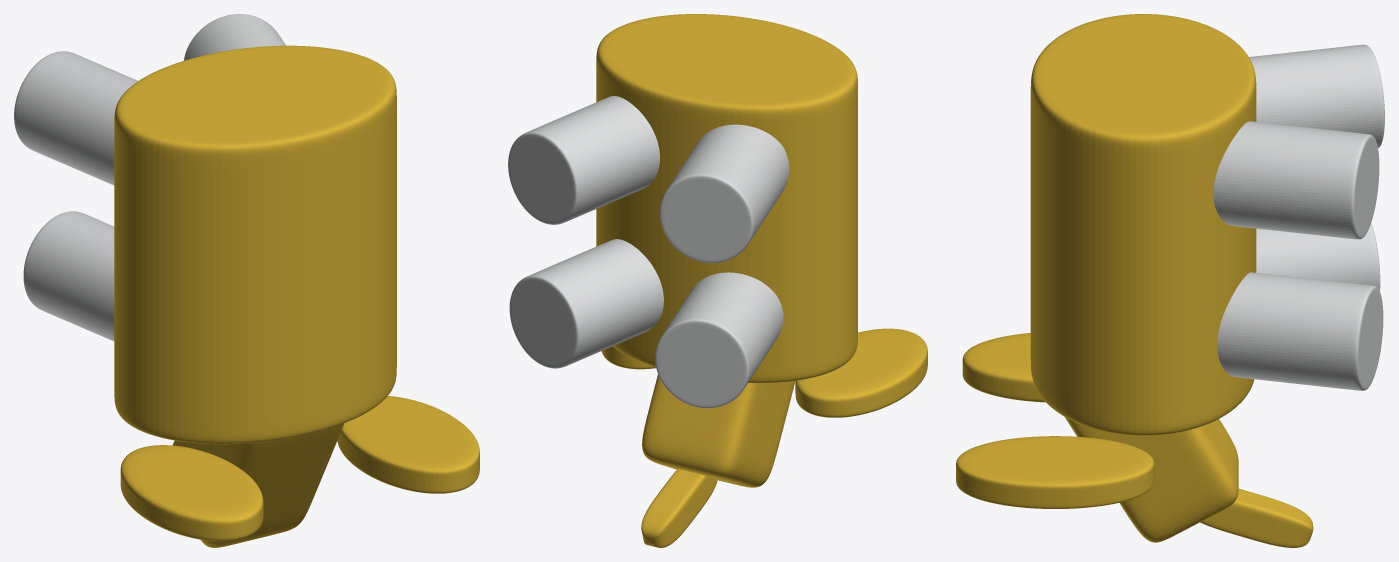
File: 8_elephant.glb
The picture shows the model from 3 angles, left to right: view 1: azimuth 30°, elevation 25°; view 2: azimuth 150°, elevation 25°; view 3: azimuth 270°, elevation 25°; orthographic projection. The views are drawn at different scales.
Visible parts, largest first — view 1: superquadric_4, superquadric_8, superquadric_3, superquadric_5, superquadric_1, superquadric_7, superquadric_2; view 2: superquadric_4, superquadric_0, superquadric_2, superquadric_3, superquadric_1, superquadric_7, superquadric_8, superquadric_6, superquadric_5; view 3: superquadric_4, superquadric_0, superquadric_2, superquadric_5, superquadric_3, superquadric_7, superquadric_1, superquadric_8, superquadric_6.
Part boxes in pixels (left/top/right/bottom): superquadric_4: left=114, top=45, right=396, bottom=444; superquadric_8: left=120, top=445, right=263, bottom=541; superquadric_3: left=14, top=51, right=137, bottom=185; superquadric_5: left=337, top=396, right=479, bottom=493; superquadric_1: left=23, top=211, right=114, bottom=341; superquadric_7: left=173, top=423, right=343, bottom=547; superquadric_2: left=183, top=14, right=285, bottom=60; superquadric_4: left=596, top=14, right=857, bottom=383; superquadric_0: left=509, top=239, right=663, bottom=368; superquadric_2: left=508, top=96, right=659, bottom=224; superquadric_3: left=659, top=124, right=789, bottom=263; superquadric_1: left=655, top=272, right=783, bottom=408; superquadric_7: left=642, top=374, right=795, bottom=487; superquadric_8: left=795, top=328, right=927, bottom=417; superquadric_6: left=641, top=469, right=717, bottom=547; superquadric_5: left=601, top=346, right=655, bottom=369; superquadric_4: left=1030, top=14, right=1256, bottom=435; superquadric_0: left=1217, top=272, right=1383, bottom=390; superquadric_2: left=1213, top=121, right=1379, bottom=239; superquadric_5: left=956, top=436, right=1154, bottom=508; superquadric_3: left=1249, top=44, right=1384, bottom=148; superquadric_7: left=1065, top=417, right=1238, bottom=542; superquadric_1: left=1256, top=223, right=1380, bottom=290; superquadric_8: left=962, top=333, right=1045, bottom=402; superquadric_6: left=1200, top=488, right=1313, bottom=547.
Size of the model in its own units: 0.7079 by 1 by 0.8289.
